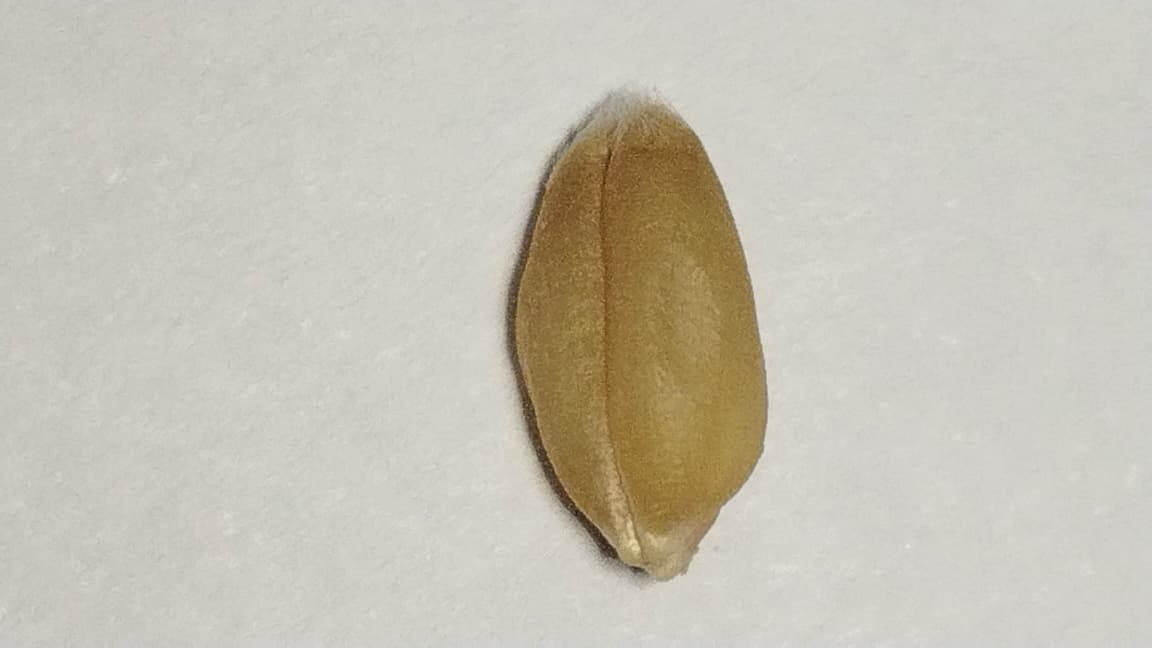healthy: (509, 86, 768, 578)
